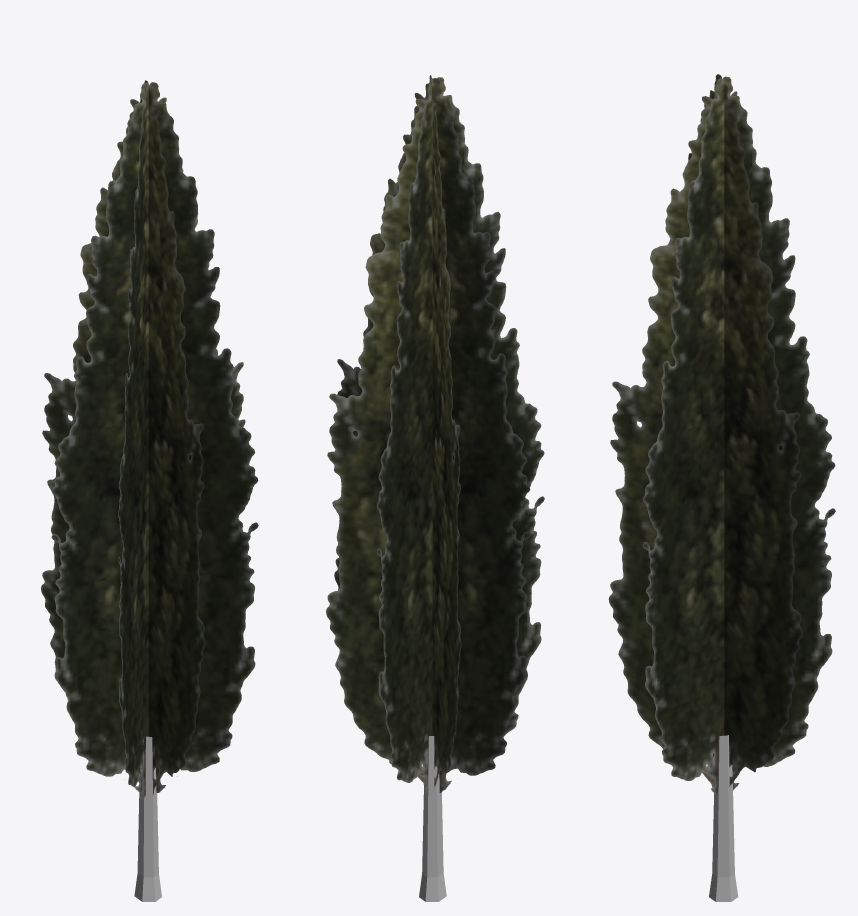
File: Arbol02-b.fbx
The picture shows the model from 3 angles, left to right: view 1: azimuth 30°, elevation 25°; view 2: azimuth 150°, elevation 25°; view 3: azimuth 270°, elevation 25°; orthographic projection.
Visible parts, largest first — view 1: arbol02; view 2: arbol02; view 3: arbol02.
Part boxes in pixels (x1,y1,x2,y2): arbol02: (41, 80, 258, 901); arbol02: (326, 75, 544, 901); arbol02: (608, 74, 835, 901).
Size of the model in its own units: 389 by 1358 by 389.
